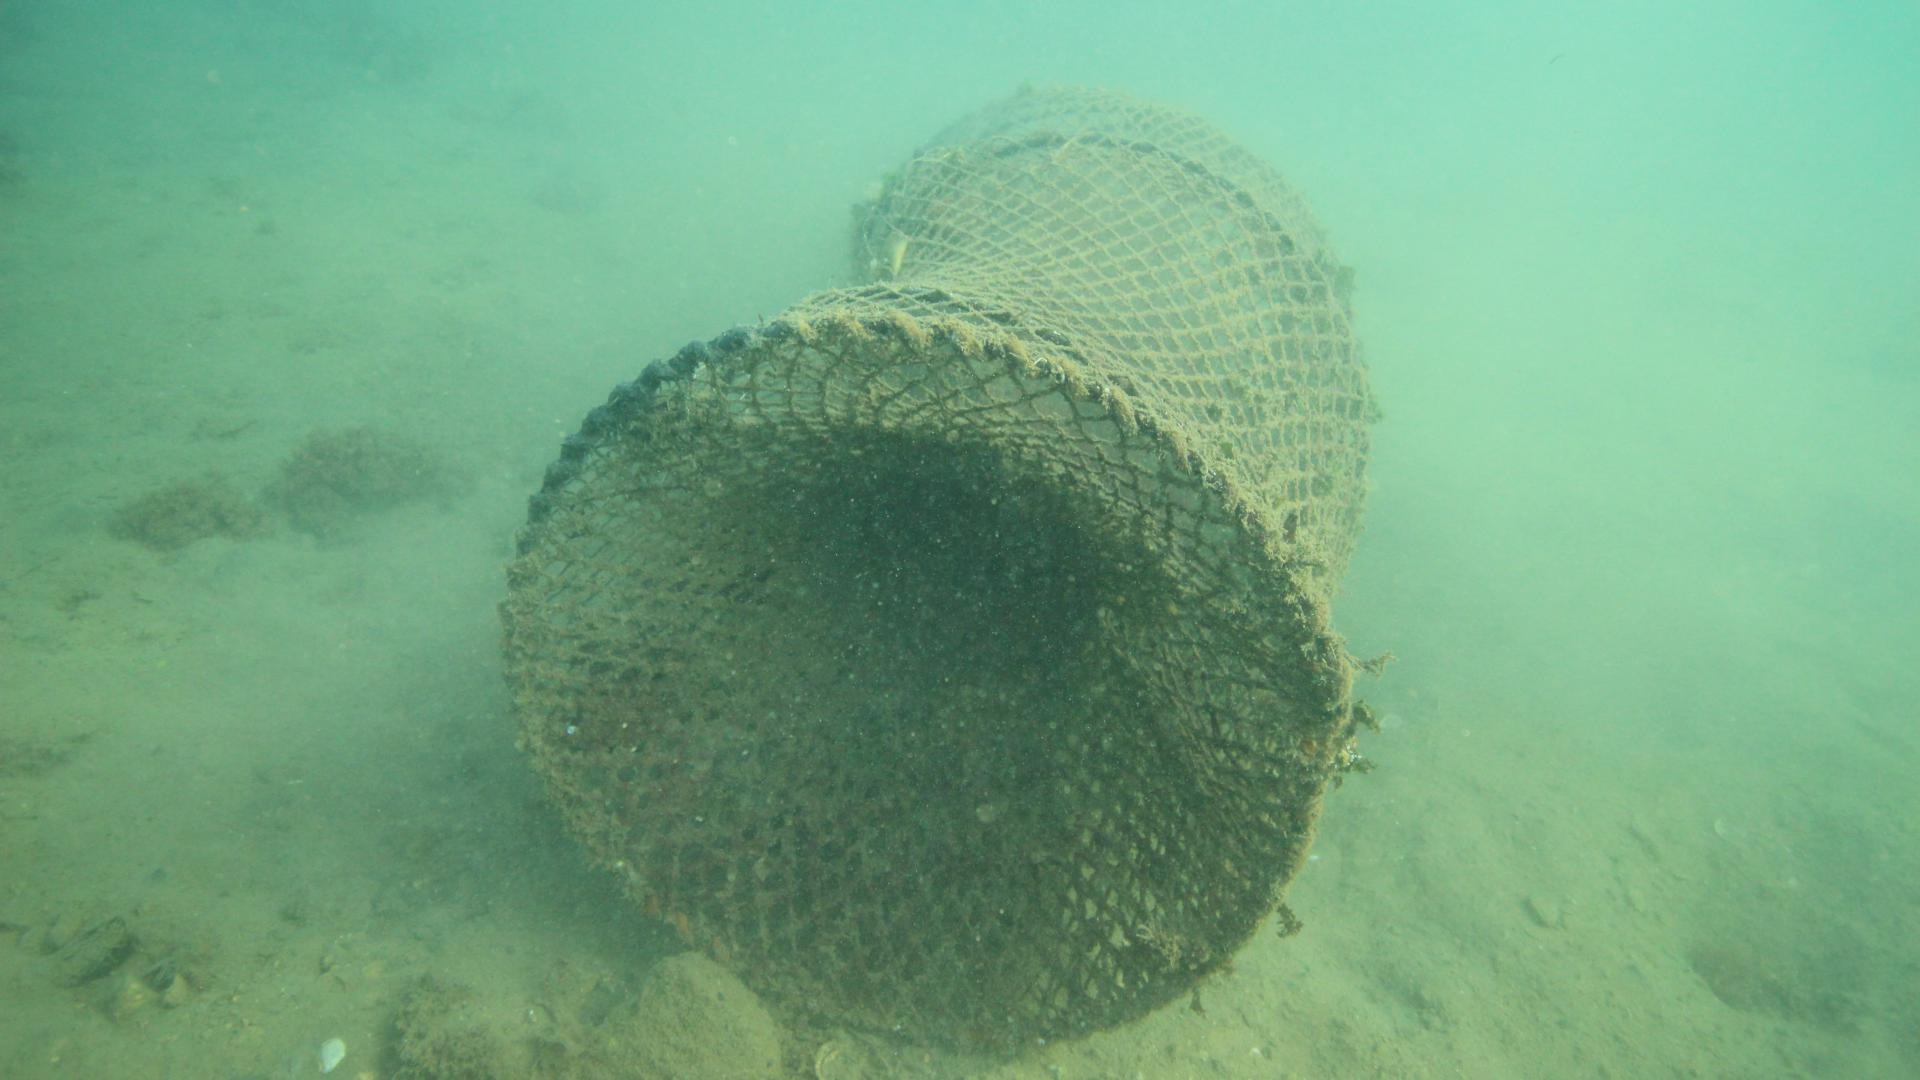spring fish trap: (500, 80, 1375, 1059)
